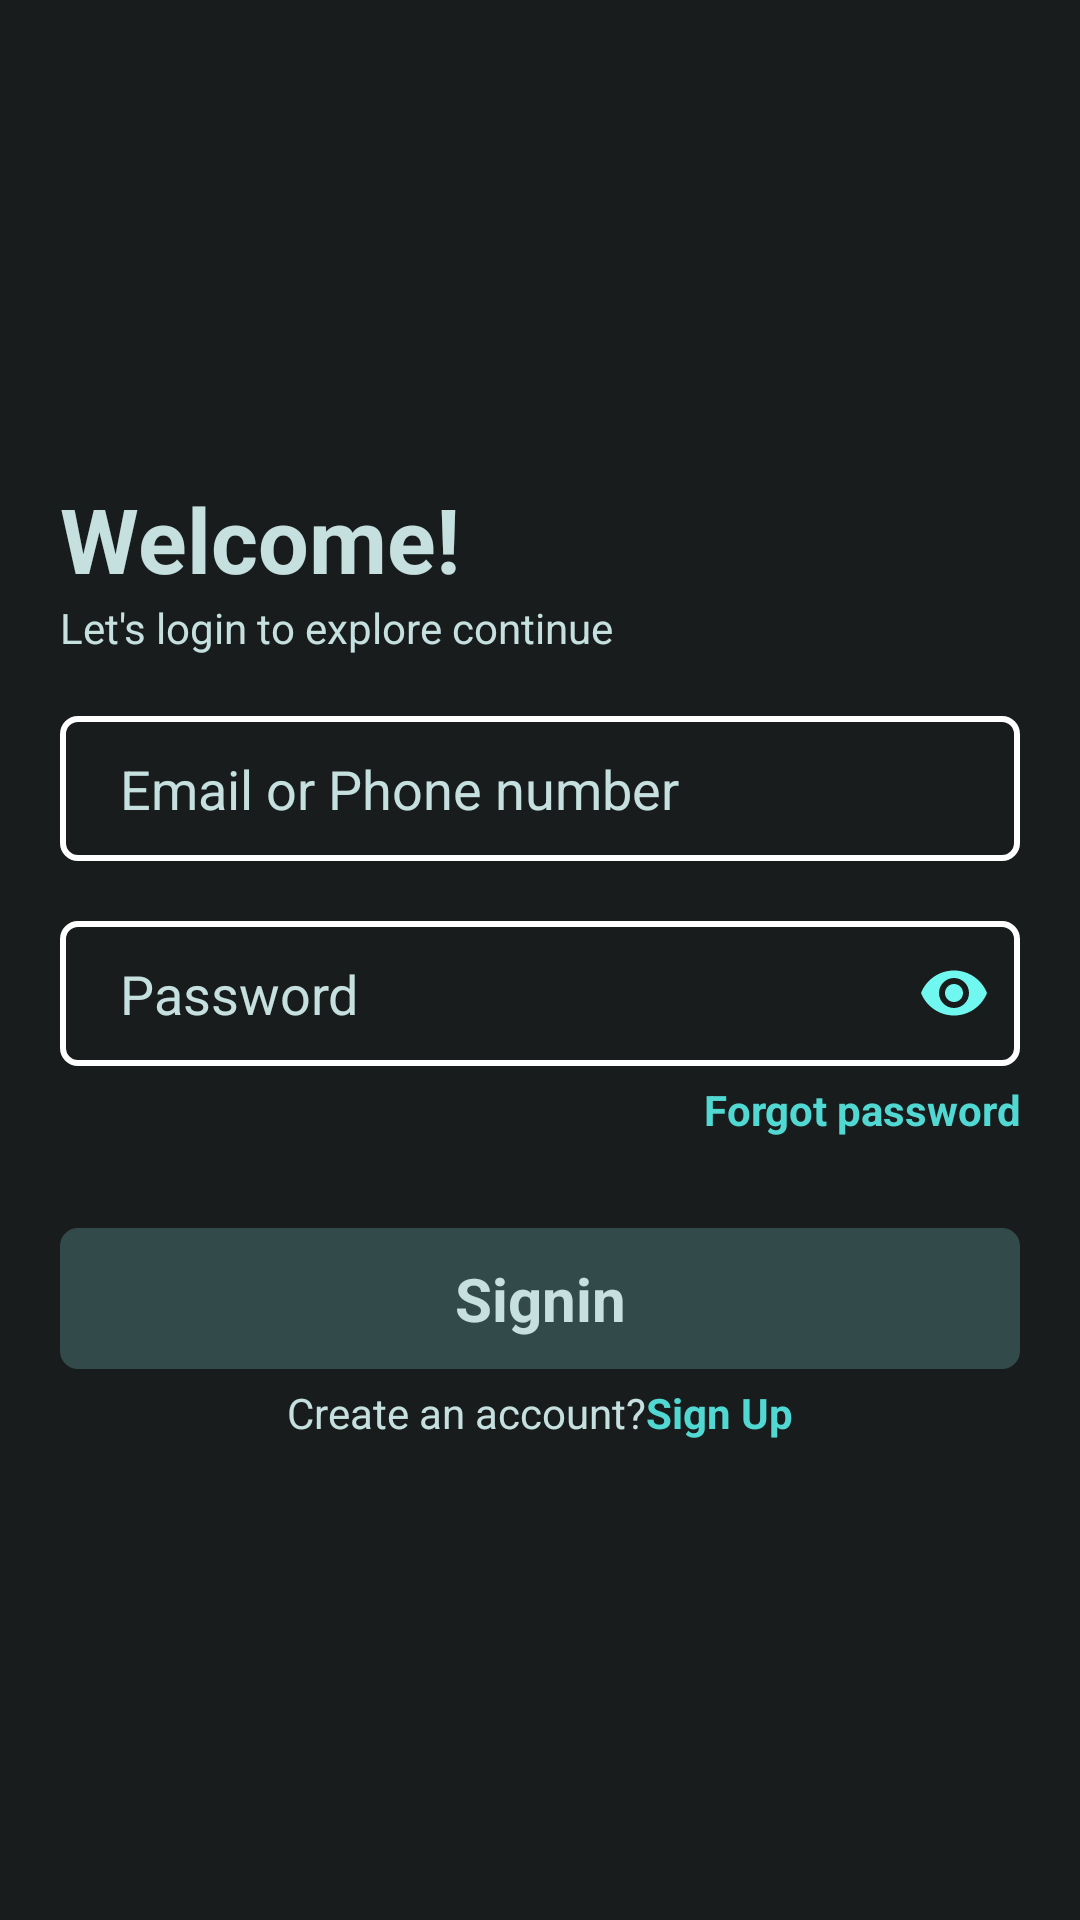

Locate icon controls on the screen. Image size 1080w x 1920h, boxes as (x1, y1, x2, y2).
eye: (921, 970, 987, 1016)
